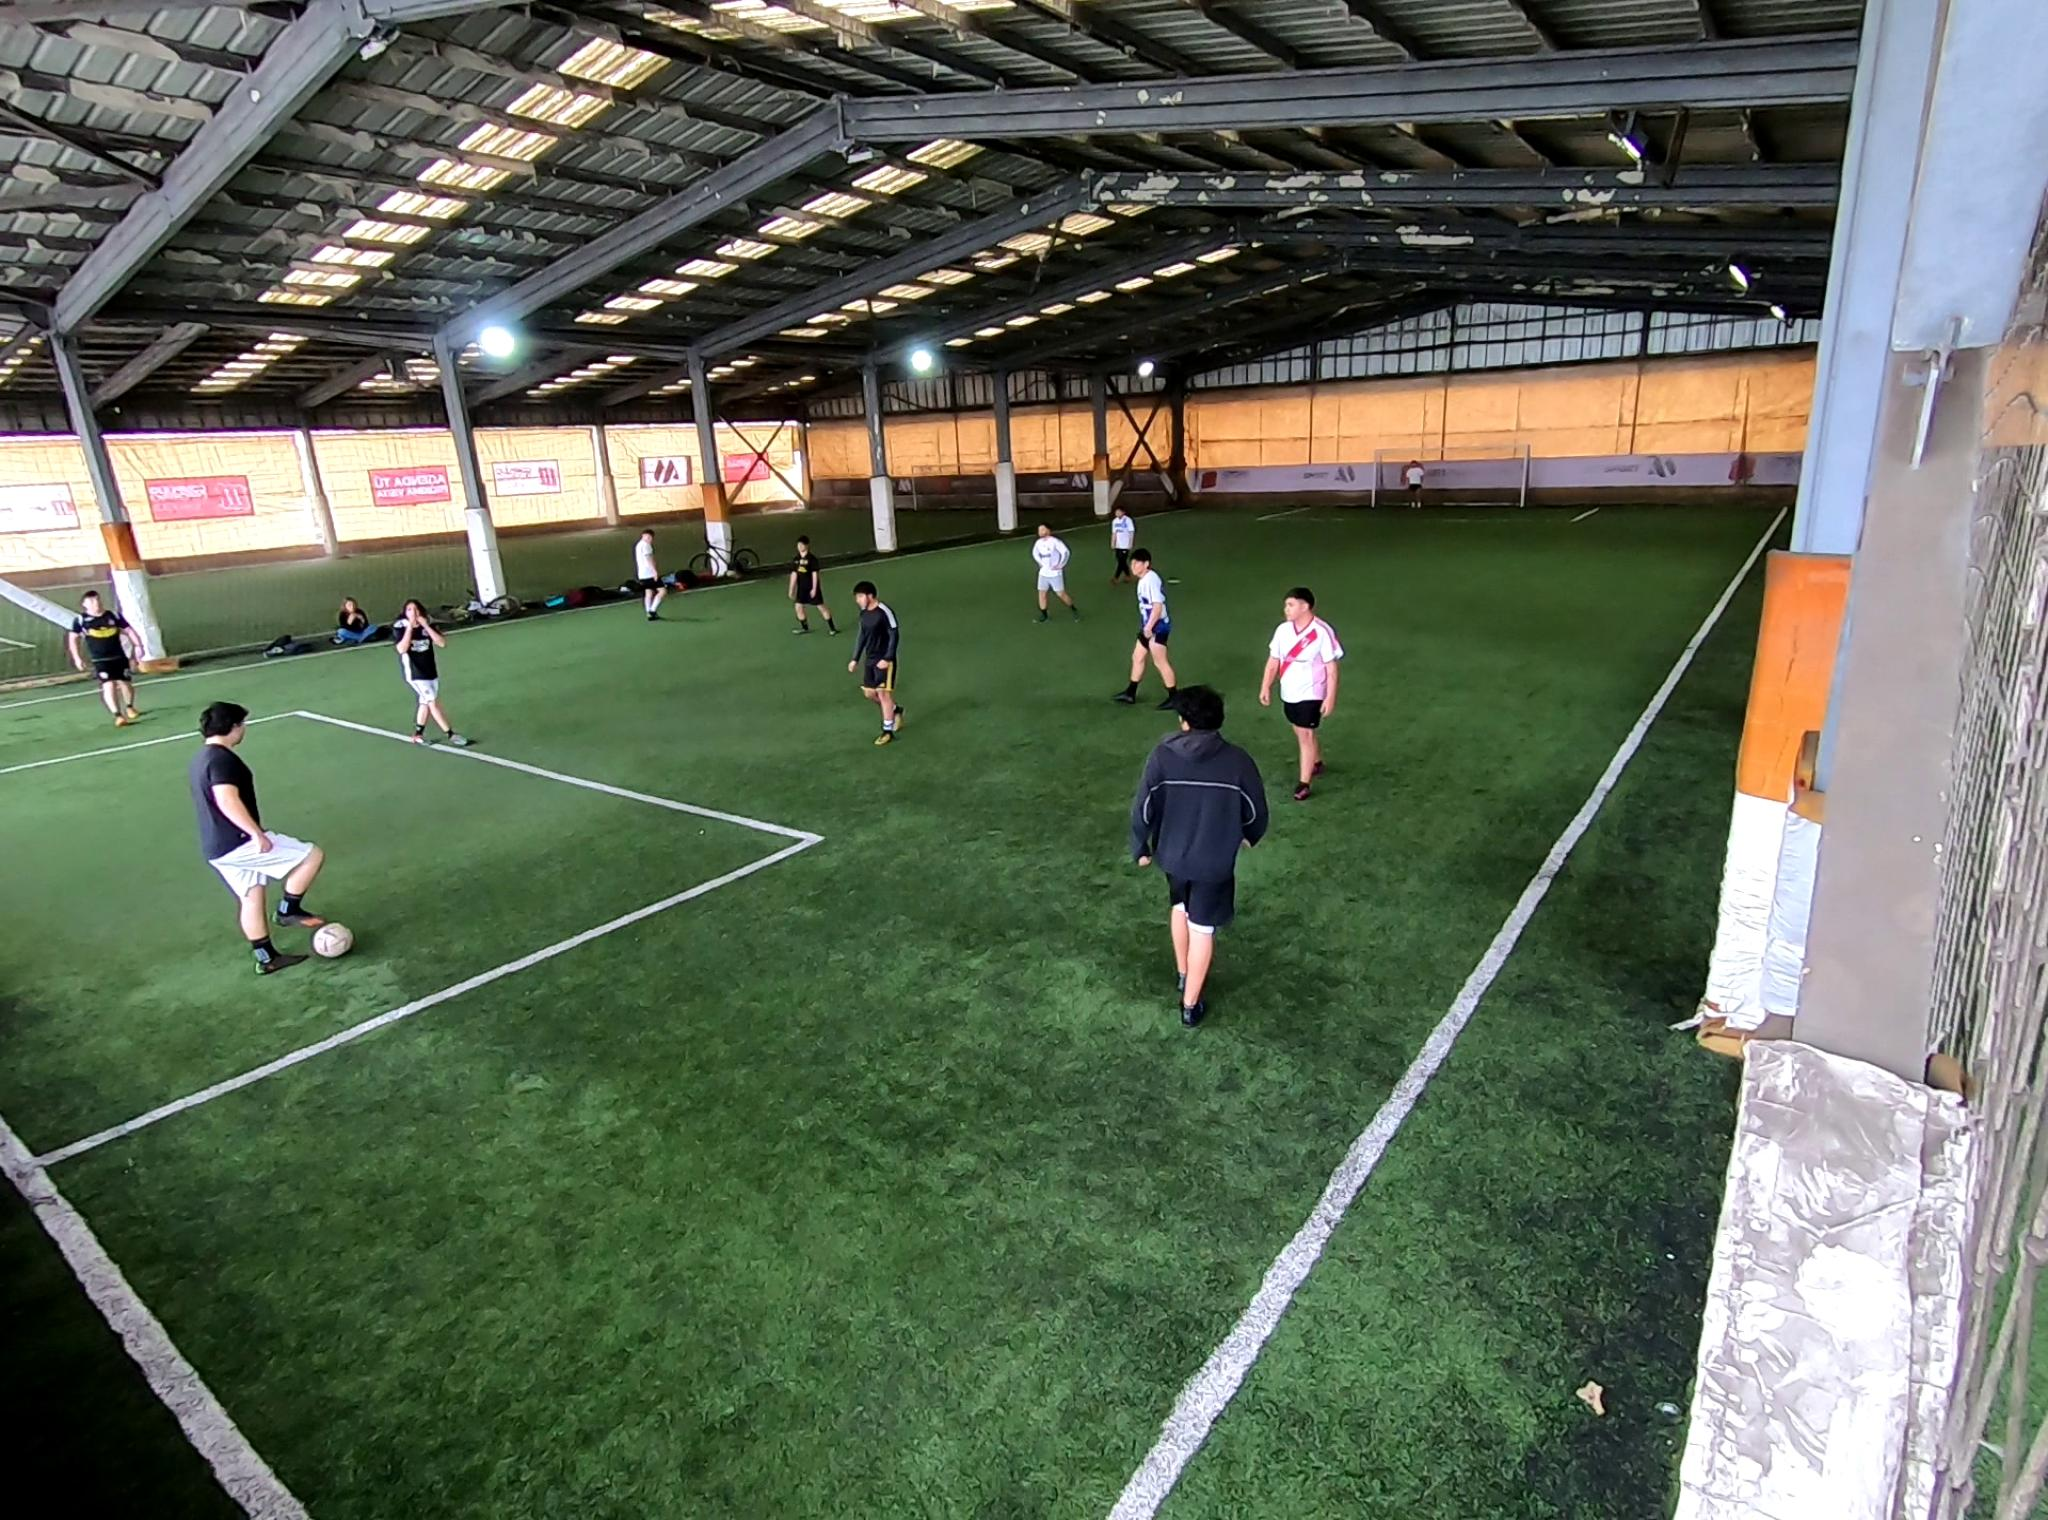BALON: (312, 923, 354, 958)
JUGADOR: (1130, 687, 1269, 1026), (192, 702, 323, 974), (1259, 587, 1343, 799), (1112, 547, 1183, 710), (393, 600, 466, 748), (69, 590, 144, 727), (847, 582, 906, 746), (1030, 524, 1082, 624), (788, 535, 838, 637), (636, 526, 666, 620), (1109, 504, 1135, 582), (1405, 460, 1425, 507)
